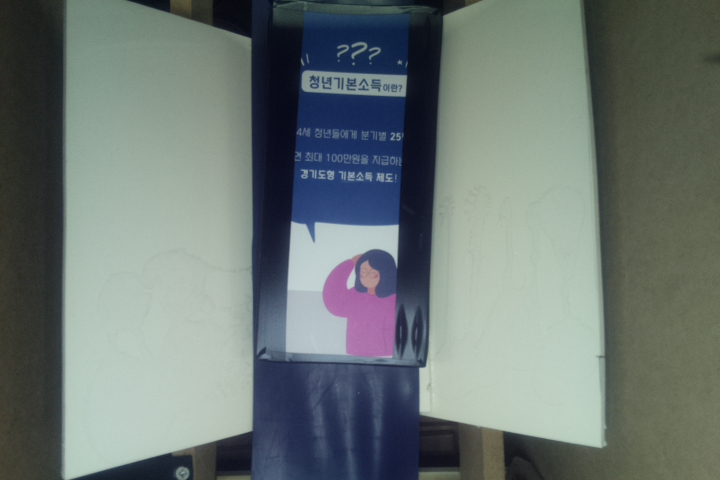book: (252, 3, 444, 366)
